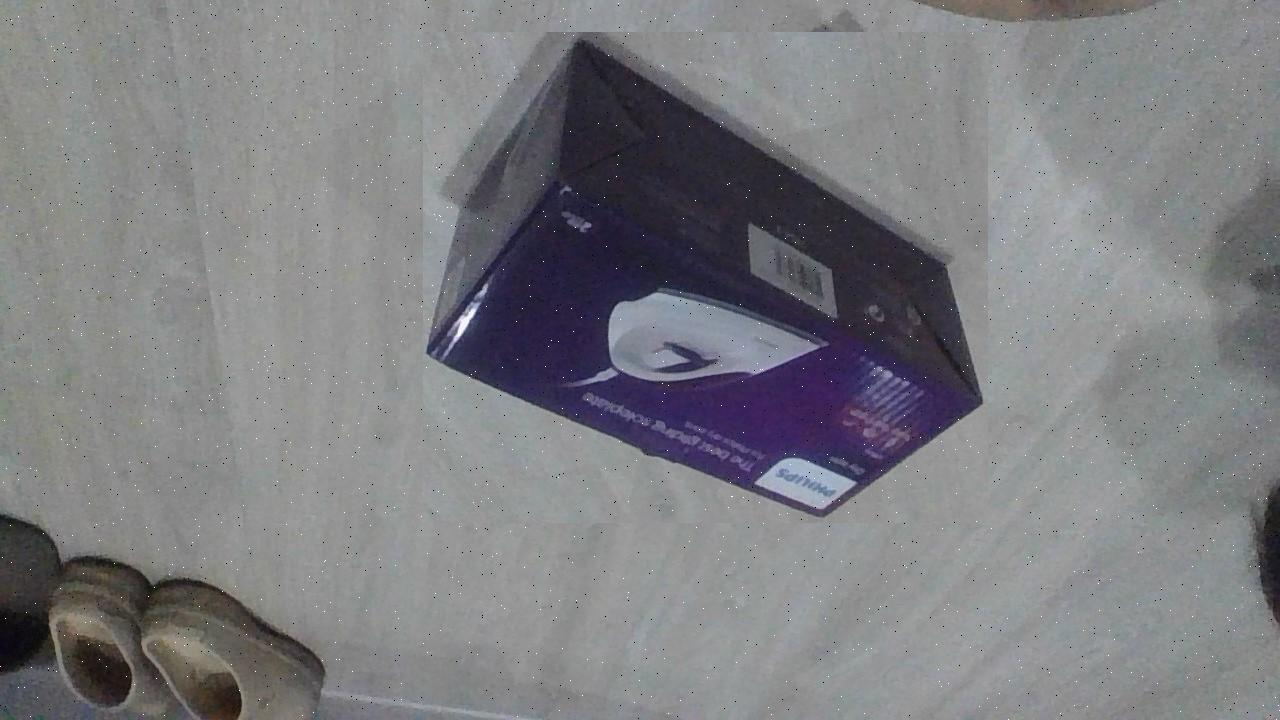IRON: (423, 32, 988, 523)
